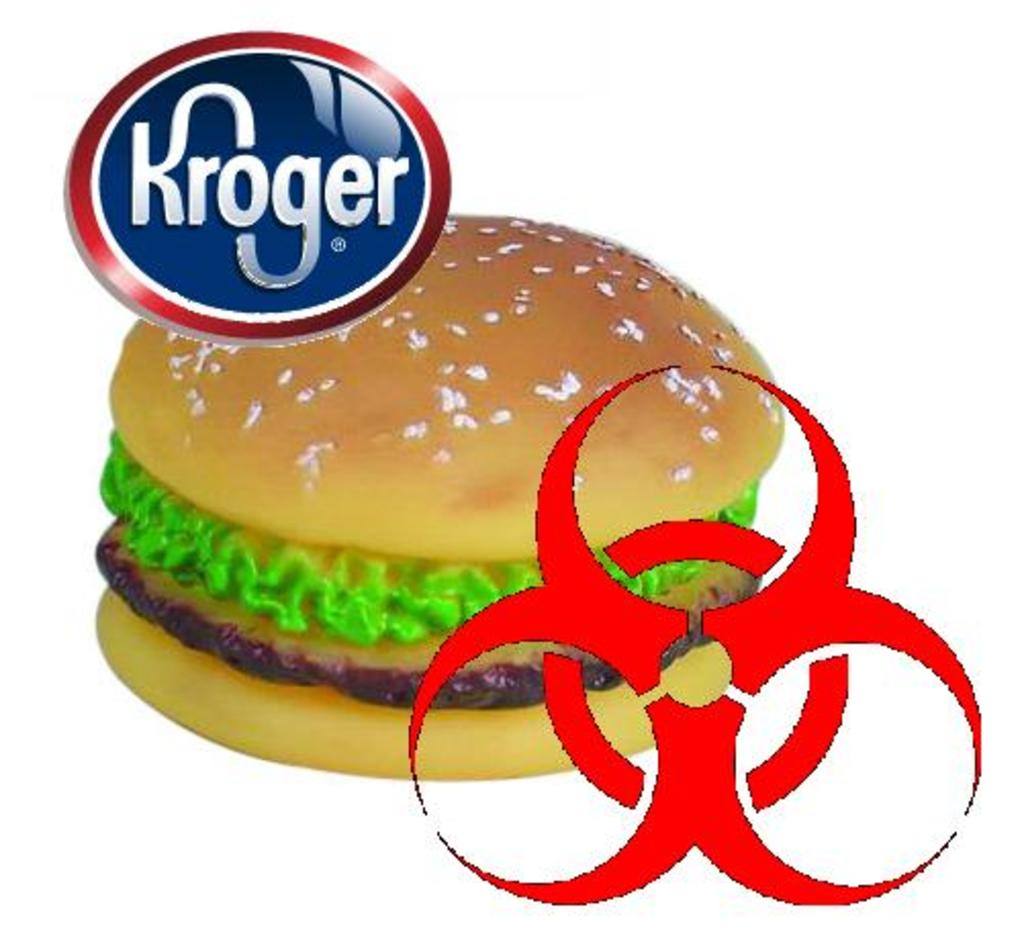Hamburger: (98, 216, 786, 784)
